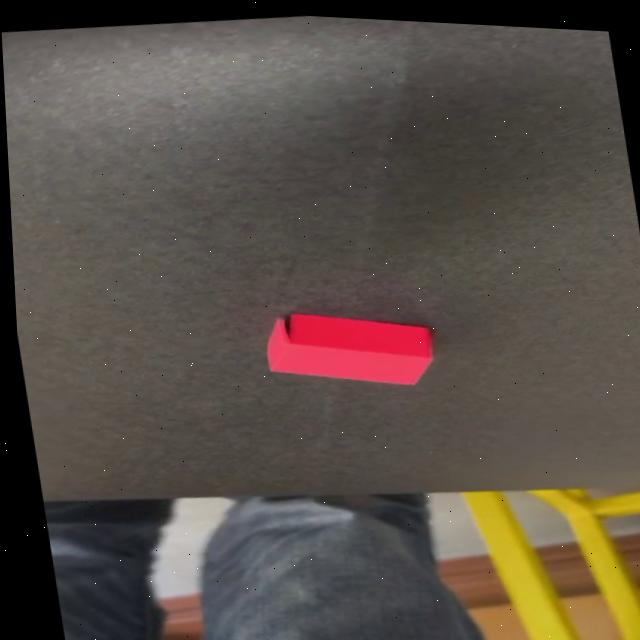red block: (257, 297, 441, 403)
